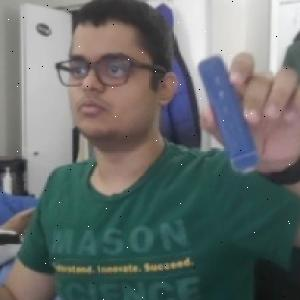Diamond-E-Ciggirate: (195, 51, 262, 183)
